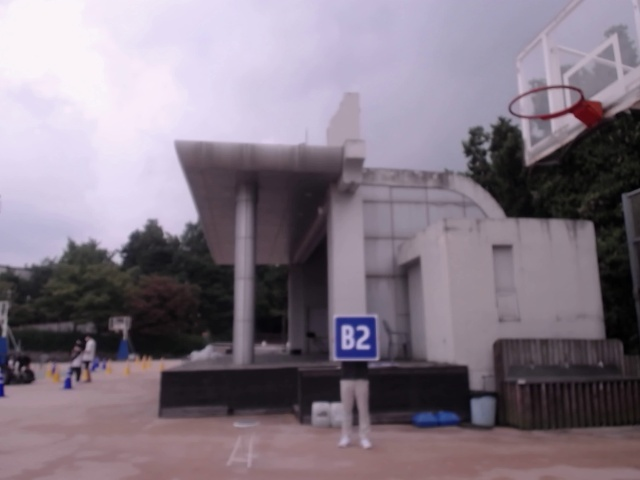delivery_b2: (332, 314, 380, 361)
